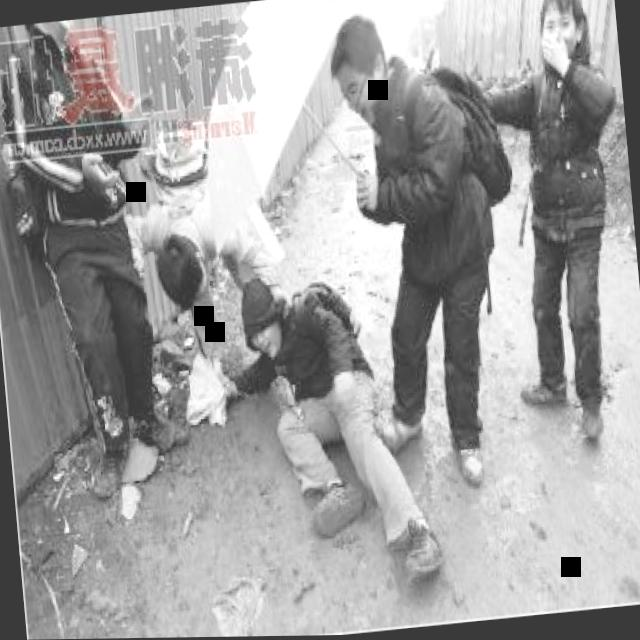Fall-Detected: (215, 244, 460, 591)
